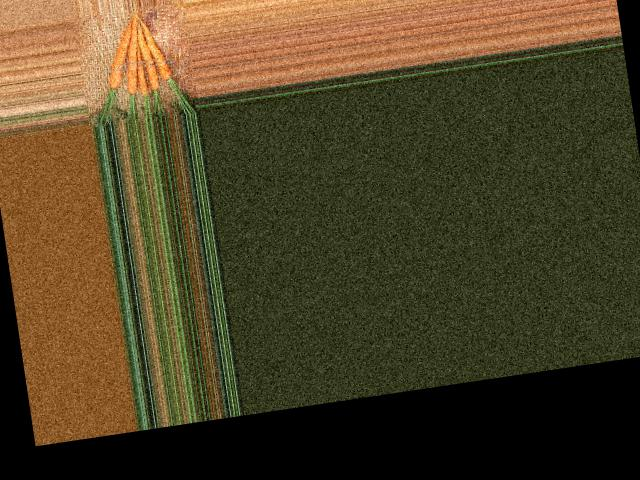carrot: (141, 19, 173, 82)
